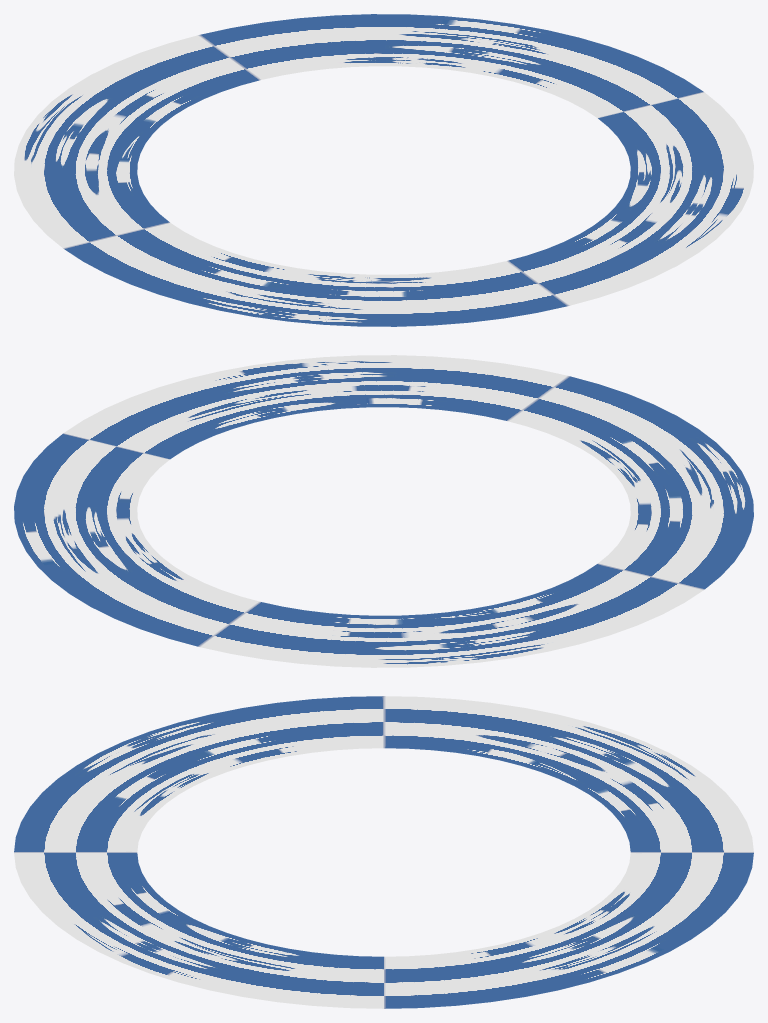
File: Hi_Spl_Hekira_04.fbx
3 renders of one model, top to bottom at view 1: azimuth 30°, elevation 25°; view 2: azimuth 150°, elevation 25°; view 3: azimuth 270°, elevation 25°, orthographic.
Visible parts, largest first — view 1: SM_d_e_P0001_V00_C00_SplHkr_c050_Hekira_04; view 2: SM_d_e_P0001_V00_C00_SplHkr_c050_Hekira_04; view 3: SM_d_e_P0001_V00_C00_SplHkr_c050_Hekira_04.
Part boxes in pixels (x1,y1,x2,y2): SM_d_e_P0001_V00_C00_SplHkr_c050_Hekira_04: (14, 14, 753, 326); SM_d_e_P0001_V00_C00_SplHkr_c050_Hekira_04: (14, 355, 753, 667); SM_d_e_P0001_V00_C00_SplHkr_c050_Hekira_04: (14, 696, 753, 1008).
Size of the model in its own units: 300 by 3.67e-14 by 300.
Materials: 1 (1 with a texture image).
